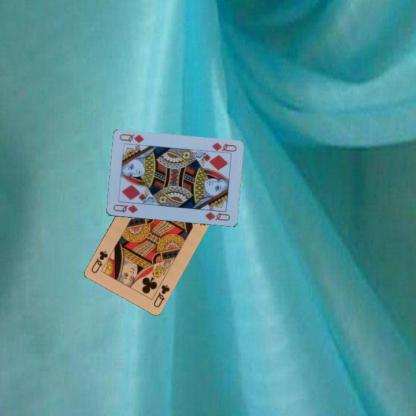Qc: (151, 282, 171, 308)
Qd: (207, 140, 237, 156), (110, 202, 139, 215)
